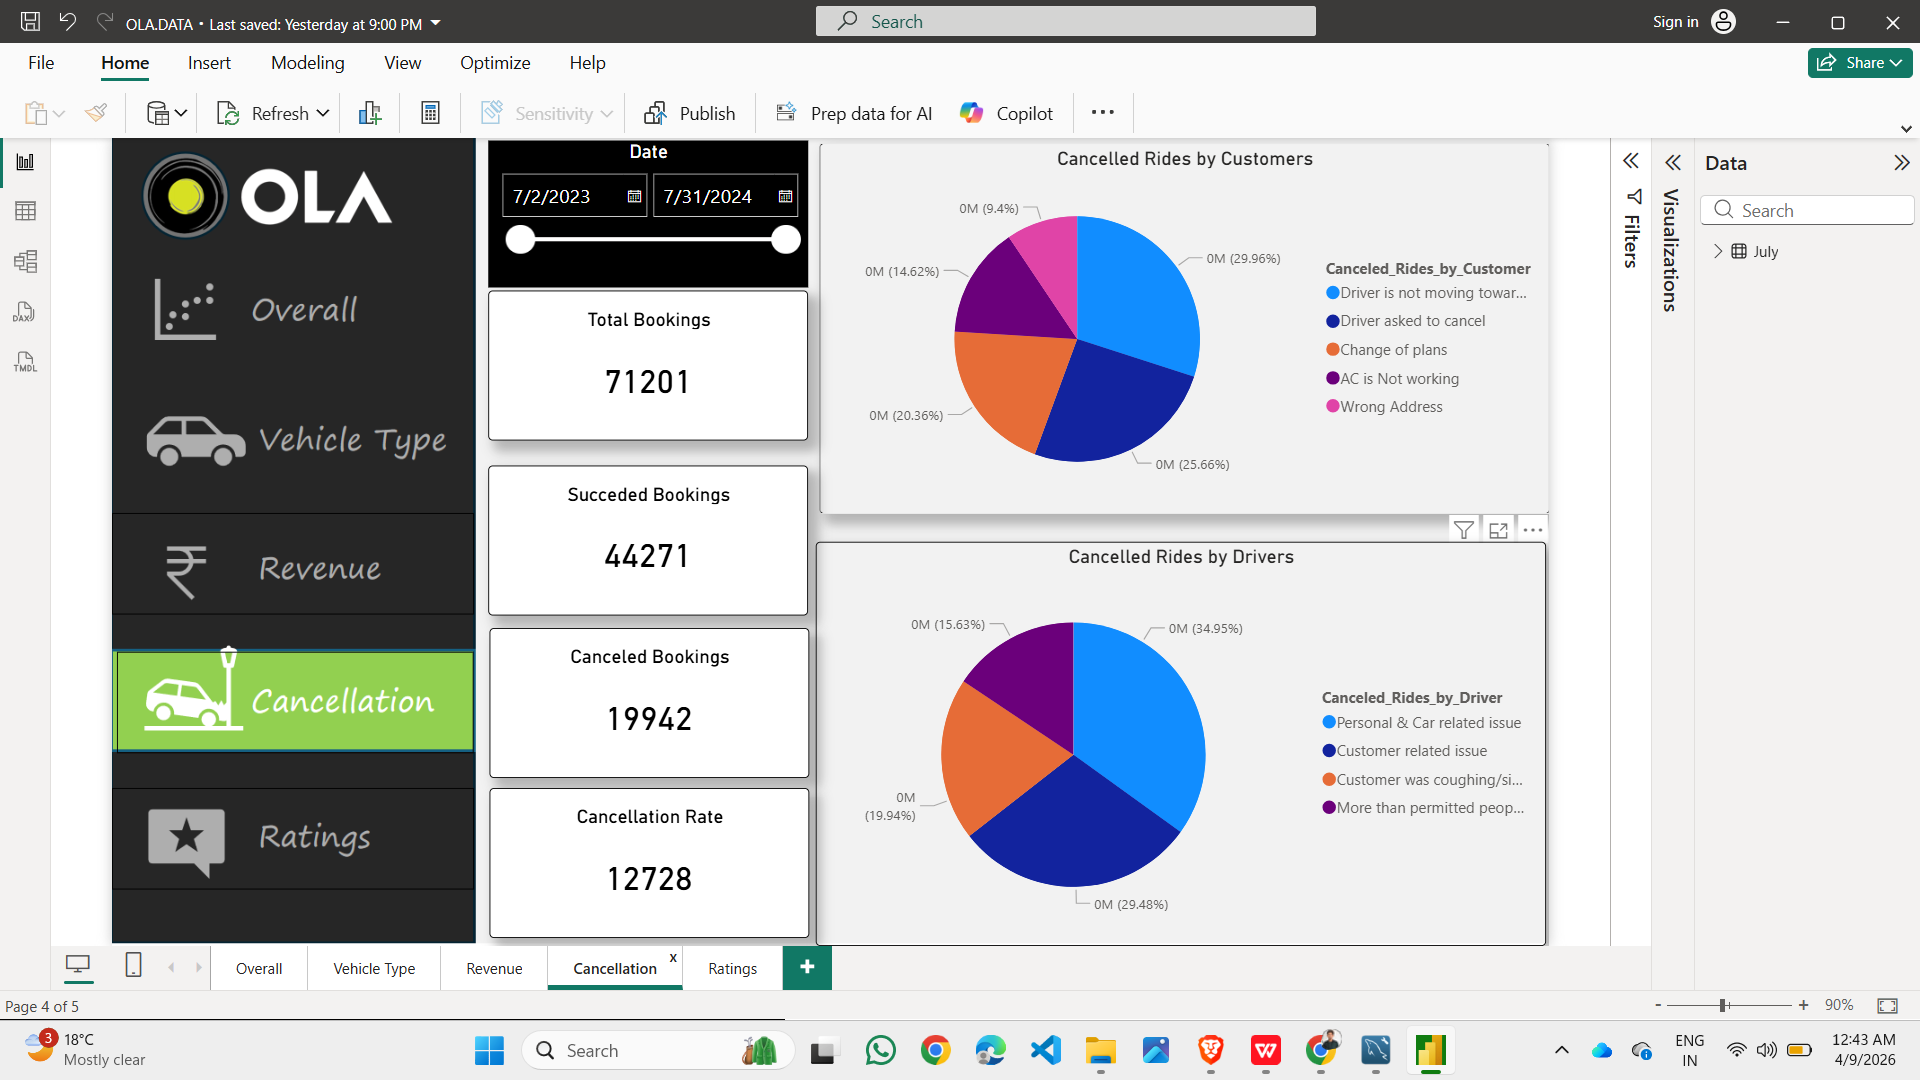

What the dashboard file says about the page in this screenshot:
{"tool":"powerbi","page":{"name":"Cancellation","canvas":[1280,720],"ordinal":3},"visuals":[{"type":"actionButton","box":[0,222.2,325.6,90],"z":0},{"type":"actionButton","box":[0,334.4,322.2,90],"z":1000},{"type":"actionButton","box":[4.4,457.8,317.8,90],"z":2000},{"type":"actionButton","box":[0,578.9,322.2,90],"z":3000},{"type":"actionButton","box":[0,115.6,325.6,90],"z":4000},{"type":"pieChart","title":"Cancelled Rides by Customers","fields":{"Category":["July.Canceled_Rides_by_Customer"],"Y":["CountNonNull(July.Booking_Status)"]},"box":[630,5,650,330],"z":5000},{"type":"pieChart","title":"Cancelled Rides by Drivers","fields":{"Category":["July.Canceled_Rides_by_Driver"],"Y":["CountNonNull(July.Canceled_Rides_by_Driver)"]},"box":[626.2,360,650,360],"z":6000},{"type":"card","title":"Total Bookings","fields":{"Values":["CountNonNull(July.Booking_ID)"]},"box":[335,136.2,285,133.8],"z":7000},{"type":"card","title":"Succeded Bookings","fields":{"Values":["CountNonNull(July.Booking_ID)"]},"box":[335.6,291.1,284.4,133.3],"z":8000},{"type":"card","title":"Canceled Bookings","fields":{"Values":["CountNonNull(July.Booking_ID)"]},"box":[336.7,436.7,284.4,133.3],"z":9000},{"type":"card","title":"Cancellation Rate","fields":{"Values":["CountNonNull(July.Booking_ID)"]},"box":[336.7,578.9,284.4,133.3],"z":10000},{"type":"slicer","title":"Date","fields":{"Values":["July.Date"]},"box":[335,2.5,285,130],"z":11000}]}

Visuals, with their boxes on the page's 1280x720 design canvas (x1, y1, x2, y2). These are canvas units, not pixel positions in the 1920x1080 screenshot, which may show the page scaled, cropped or inside an application window:
actionButton: {"left": 0, "top": 222, "right": 326, "bottom": 312}
actionButton: {"left": 0, "top": 334, "right": 322, "bottom": 424}
actionButton: {"left": 4, "top": 458, "right": 322, "bottom": 548}
actionButton: {"left": 0, "top": 579, "right": 322, "bottom": 669}
actionButton: {"left": 0, "top": 116, "right": 326, "bottom": 206}
"Cancelled Rides by Customers" pieChart: {"left": 630, "top": 5, "right": 1280, "bottom": 335}
"Cancelled Rides by Drivers" pieChart: {"left": 626, "top": 360, "right": 1276, "bottom": 720}
"Total Bookings" card: {"left": 335, "top": 136, "right": 620, "bottom": 270}
"Succeded Bookings" card: {"left": 336, "top": 291, "right": 620, "bottom": 424}
"Canceled Bookings" card: {"left": 337, "top": 437, "right": 621, "bottom": 570}
"Cancellation Rate" card: {"left": 337, "top": 579, "right": 621, "bottom": 712}
"Date" slicer: {"left": 335, "top": 2, "right": 620, "bottom": 132}
